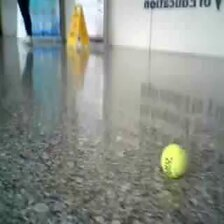tennis: (160, 143, 189, 179)
